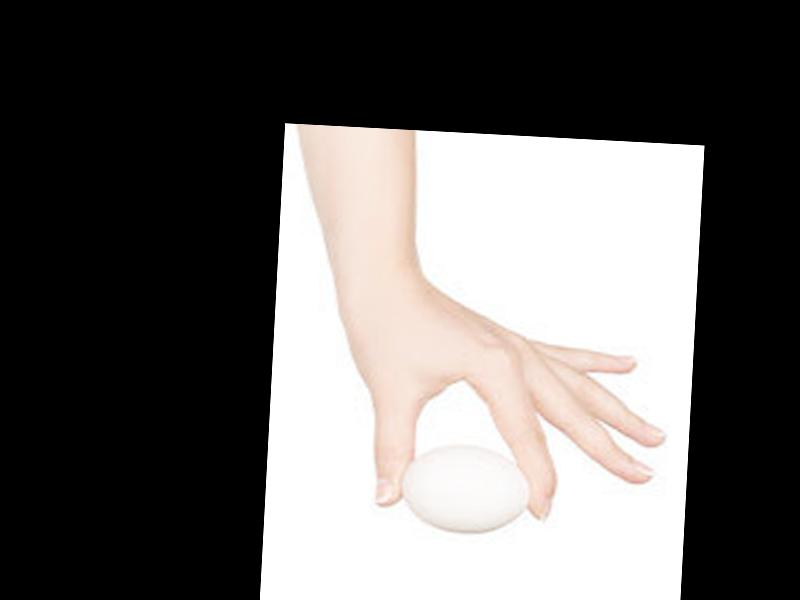Eggs: (399, 441, 533, 539)
